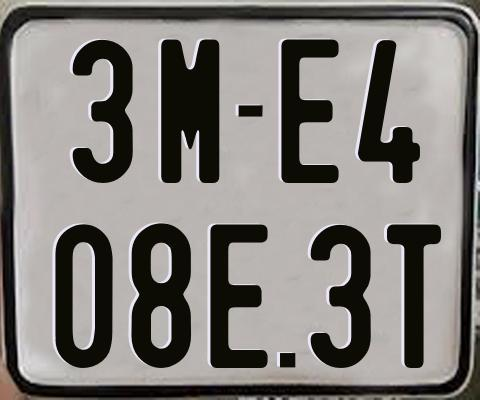0: (55, 221, 118, 369)
3: (309, 225, 372, 370), (73, 40, 133, 184)
4: (355, 40, 421, 187)
8: (131, 222, 195, 369)
E: (210, 223, 271, 369), (279, 36, 337, 181)
M: (159, 37, 223, 182)
T: (386, 222, 442, 372)
